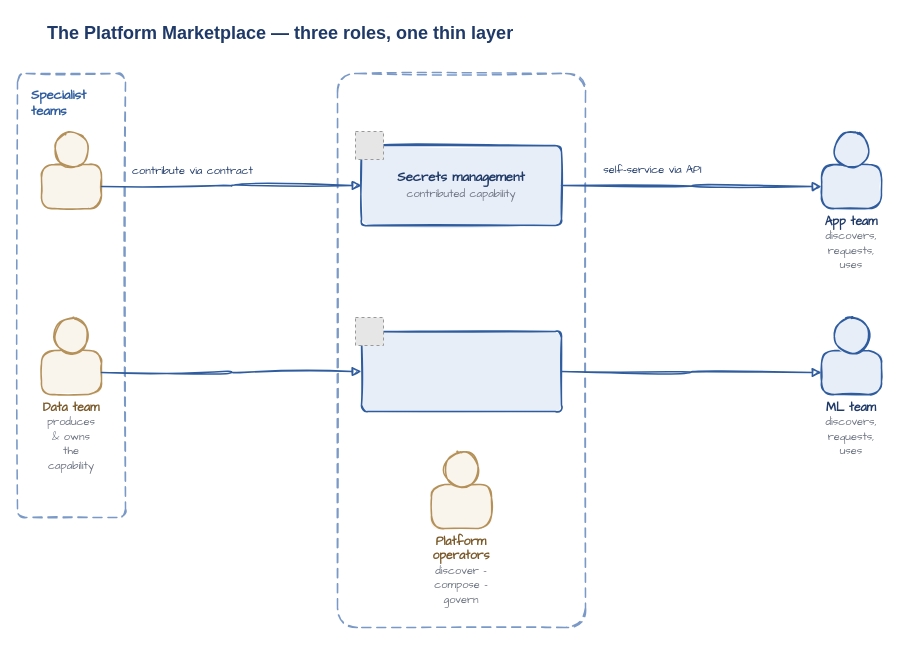
Some shapes in this 900 by 645 pixel diagram are drawn without their labels. Grey dashed boxes stand in for pictures. The shapes that lost their labels are listed below. From the top down, each one's box as (x1, y1, x2, y2) in pixels, then its label:
(40, 163, 102, 209): Security team produces & owns the capability
(336, 72, 586, 628): The thin, consistent layer
(360, 330, 562, 412): Stream processing contributed capability
